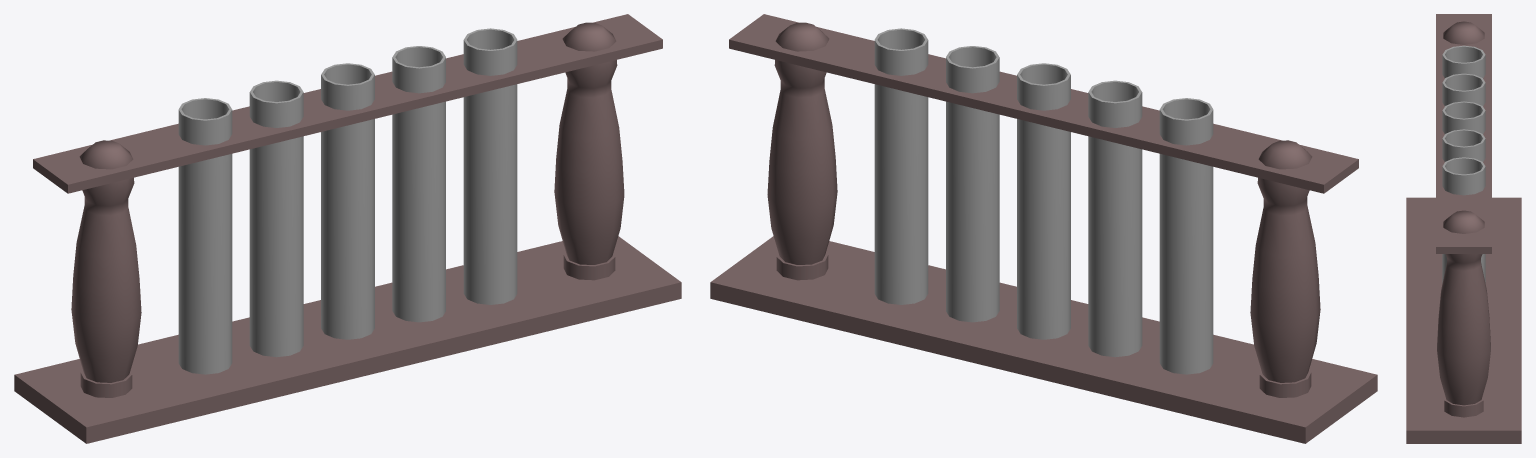
Rendered from Rack.fbx.
The picture shows the model from 3 angles, left to right: view 1: azimuth 30°, elevation 25°; view 2: azimuth 150°, elevation 25°; view 3: azimuth 270°, elevation 25°; orthographic projection. The views are drawn at different scales.
Visible parts, largest first — view 1: SM_Rack; view 2: SM_Rack; view 3: SM_Rack.
Boxes of the visible parts, box(x1,y1,x2,y2) form: SM_Rack: box(14, 14, 681, 443); SM_Rack: box(710, 14, 1377, 443); SM_Rack: box(1406, 14, 1521, 443).
Size of the model in its own units: 58.92 by 25.59 by 12.35.
